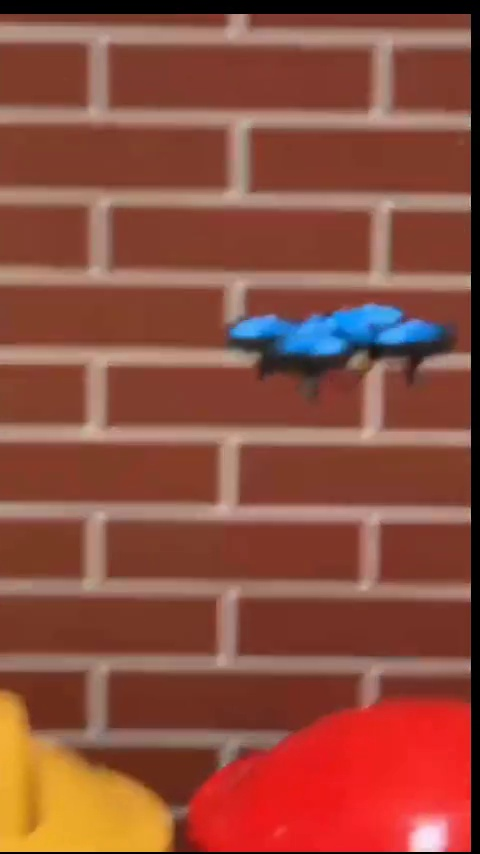drone: (232, 299, 451, 389)
